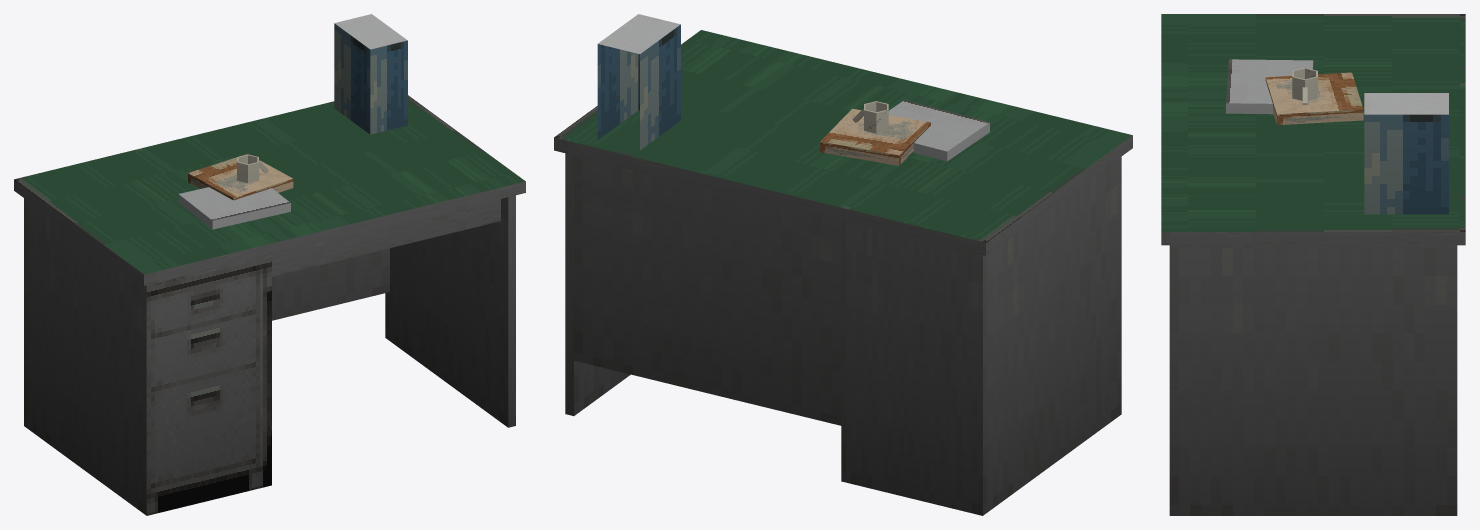
The model's file is prop_staffdesk-3.glb.
3 views of the same model, side by side, from view 1: azimuth 30°, elevation 25°; view 2: azimuth 150°, elevation 25°; view 3: azimuth 270°, elevation 25° (orthographic). The views are drawn at different scales.
Parts seen in each view (by area): view 1: prop_staffdesk-3; view 2: prop_staffdesk-3; view 3: prop_staffdesk-3.
Boxes of the visible parts, left/top/right/bottom form: prop_staffdesk-3: left=14, top=14, right=525, bottom=515; prop_staffdesk-3: left=554, top=14, right=1132, bottom=515; prop_staffdesk-3: left=1161, top=14, right=1465, bottom=515.
Size of the model in its own units: 1.21 by 0.9999 by 0.7128.
6 materials, 6 textured.
